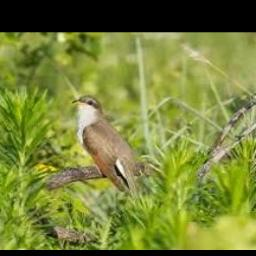Cuckoo: (71, 95, 141, 200)
